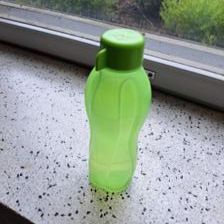bottle: (81, 28, 154, 193)
